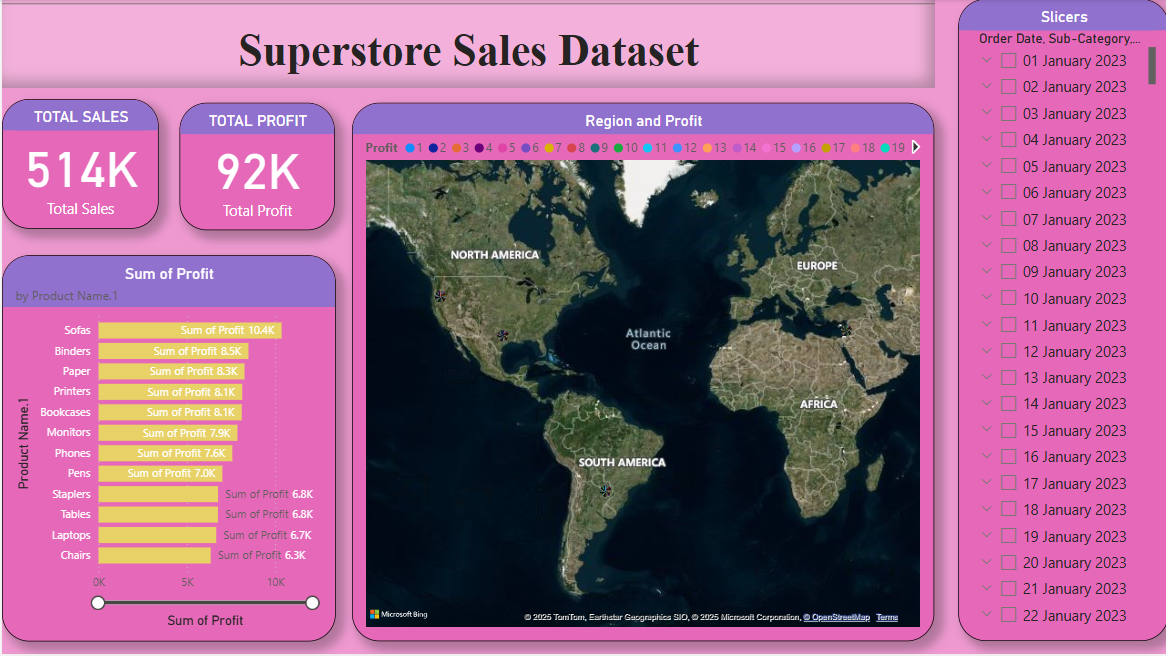

This screenshot's page, from the dashboard's own definition file:
{"tool":"powerbi","page":{"name":"Page 2","canvas":[1280,720],"ordinal":1},"visuals":[{"type":"card","title":"TOTAL SALES","fields":{"Values":["Sheet1.Total Sales"]},"box":[0,110.2,172.3,142.8],"z":0},{"type":"card","title":"TOTAL PROFIT","fields":{"Values":["Sheet1.Total Profit"]},"box":[195.5,113.3,170.7,139.7],"z":1000},{"type":"map","fields":{"Category":["Sheet1.Region"],"Series":["Sheet1.Profit"]},"box":[384.9,113.3,639.4,591.3],"z":2000},{"type":"barChart","fields":{"Category":["Sheet1.Product Name.1"],"Y":["Sum(Sheet1.Profit)"]},"box":[0,280.9,366.2,423.7],"z":3000},{"type":"slicer","title":"Slicers","fields":{"Values":["Sheet1.Order Date","Sheet1.Sub-Category","Sheet1.Customer Segment","Sheet1.Region"]},"box":[1049.1,0,231.2,704.6],"z":4000},{"type":"textbox","box":[0,0,1024.3,97.8],"z":5000}]}

Visuals, with their boxes in screenshot pixels (x1, y1, x2, y2), scaled from the page's 1280x720 canvas onto the 1166x656 screenshot:
"TOTAL SALES" card: x1=0, y1=100, x2=157, y2=231
"TOTAL PROFIT" card: x1=178, y1=103, x2=334, y2=231
map - Sheet1.Region x Sheet1.Profit: x1=351, y1=103, x2=933, y2=642
barChart - Sheet1.Product Name.1 x Sum(Sheet1.Profit): x1=0, y1=256, x2=334, y2=642
"Slicers" slicer: x1=956, y1=0, x2=1165, y2=642
textbox: x1=0, y1=0, x2=933, y2=89
